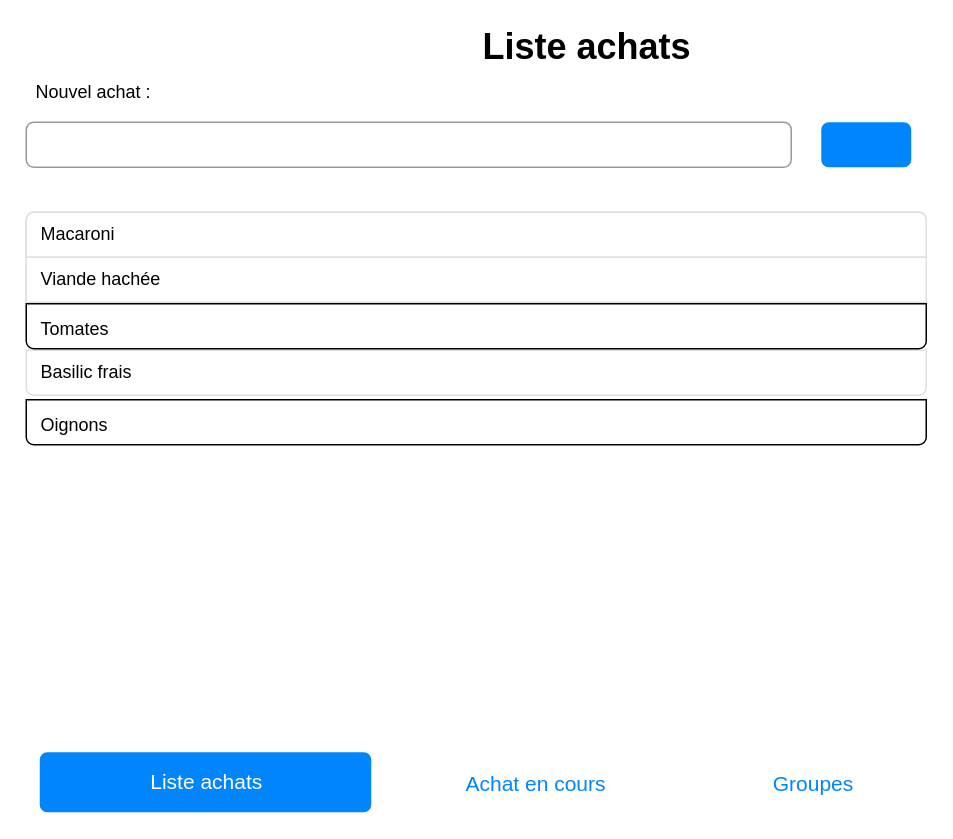
Image size: 953x839. Some labels were removed from this diagram. The shapes that lost their labels are listed below. From the top down, each one's centre as x and y in pixels, then its label:
At (x=408, y=144): "produit à acheter...".
At (x=865, y=144): "Ajouter".
